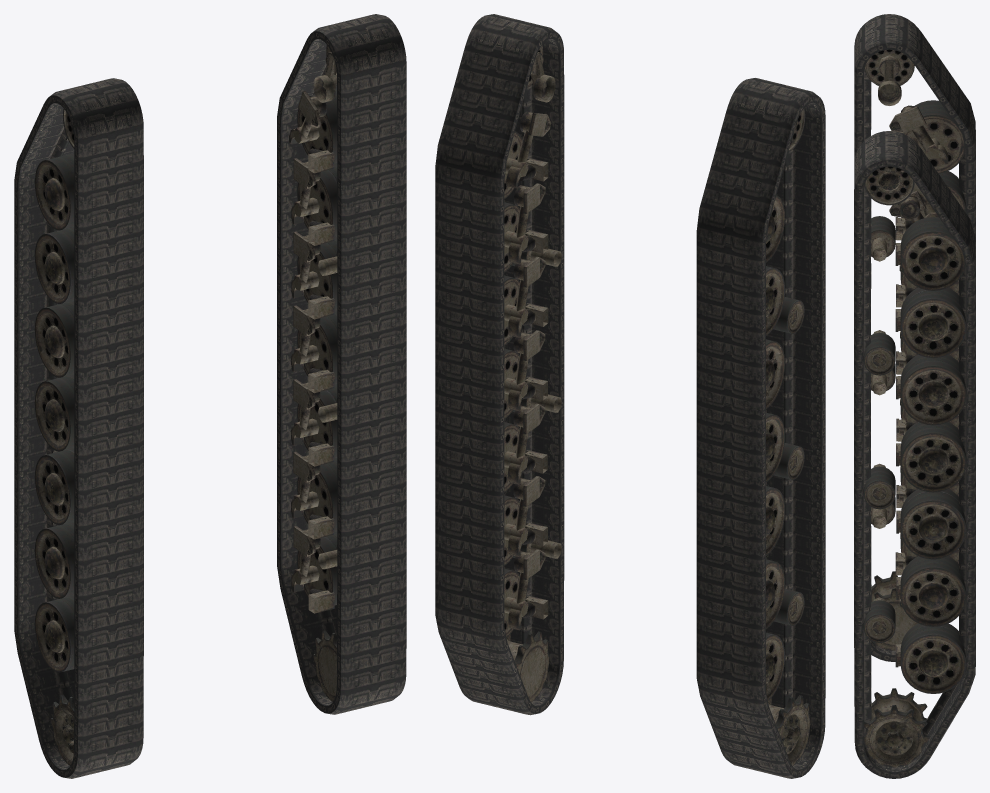
Rendered from Chassis.glb.
3 renders of one model, left to right at view 1: azimuth 30°, elevation 25°; view 2: azimuth 150°, elevation 25°; view 3: azimuth 270°, elevation 25°, orthographic. The views are drawn at different scales.
Parts seen in each view (by area): view 1: set_0_group_0, set_1_group_0, set_3_group_0, set_2_group_0; view 2: set_0_group_0, set_1_group_0, set_3_group_0, set_2_group_0; view 3: set_3_group_0, set_1_group_0, set_2_group_0, set_0_group_0.
Part boxes in pixels (box(x1,y1,x2,y2)): set_0_group_0: box(14, 78, 143, 778); set_1_group_0: box(277, 14, 406, 714); set_3_group_0: box(289, 45, 337, 701); set_2_group_0: box(34, 108, 74, 765); set_0_group_0: box(696, 78, 825, 778); set_1_group_0: box(435, 14, 564, 715); set_3_group_0: box(504, 45, 561, 701); set_2_group_0: box(766, 108, 810, 765); set_3_group_0: box(863, 166, 966, 767); set_1_group_0: box(854, 131, 975, 778); set_2_group_0: box(864, 49, 966, 650); set_0_group_0: box(854, 14, 975, 661).
Size of the model in its own units: 3.51 by 6.99 by 1.24.
4 materials, 4 textured.
